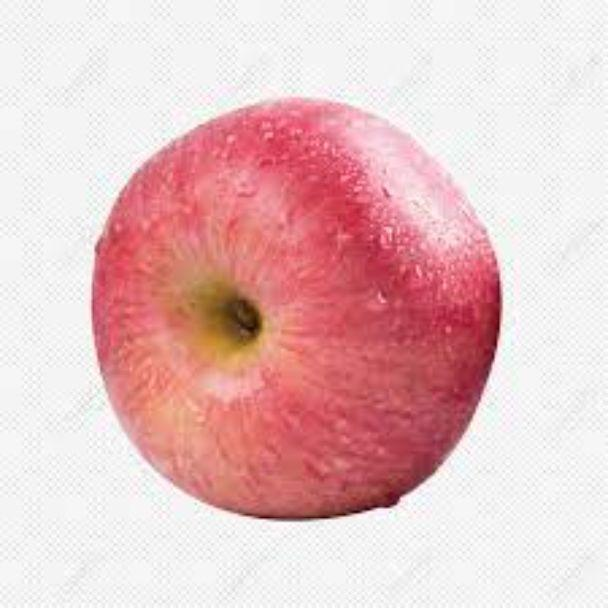HEALTHY: (73, 88, 518, 541)
